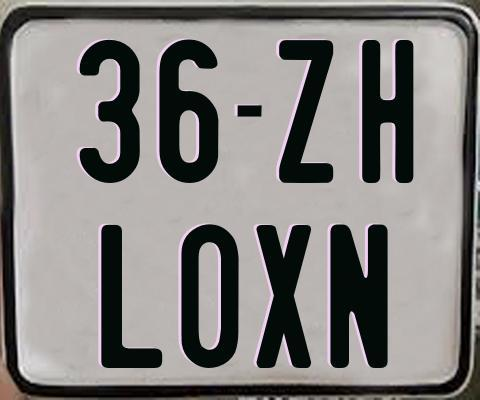0: (179, 224, 243, 369)
3: (80, 38, 146, 186)
6: (158, 37, 224, 184)
H: (362, 37, 416, 183)
L: (98, 223, 162, 370)
N: (329, 222, 391, 368)
X: (254, 225, 311, 371)
Z: (276, 40, 332, 187)
